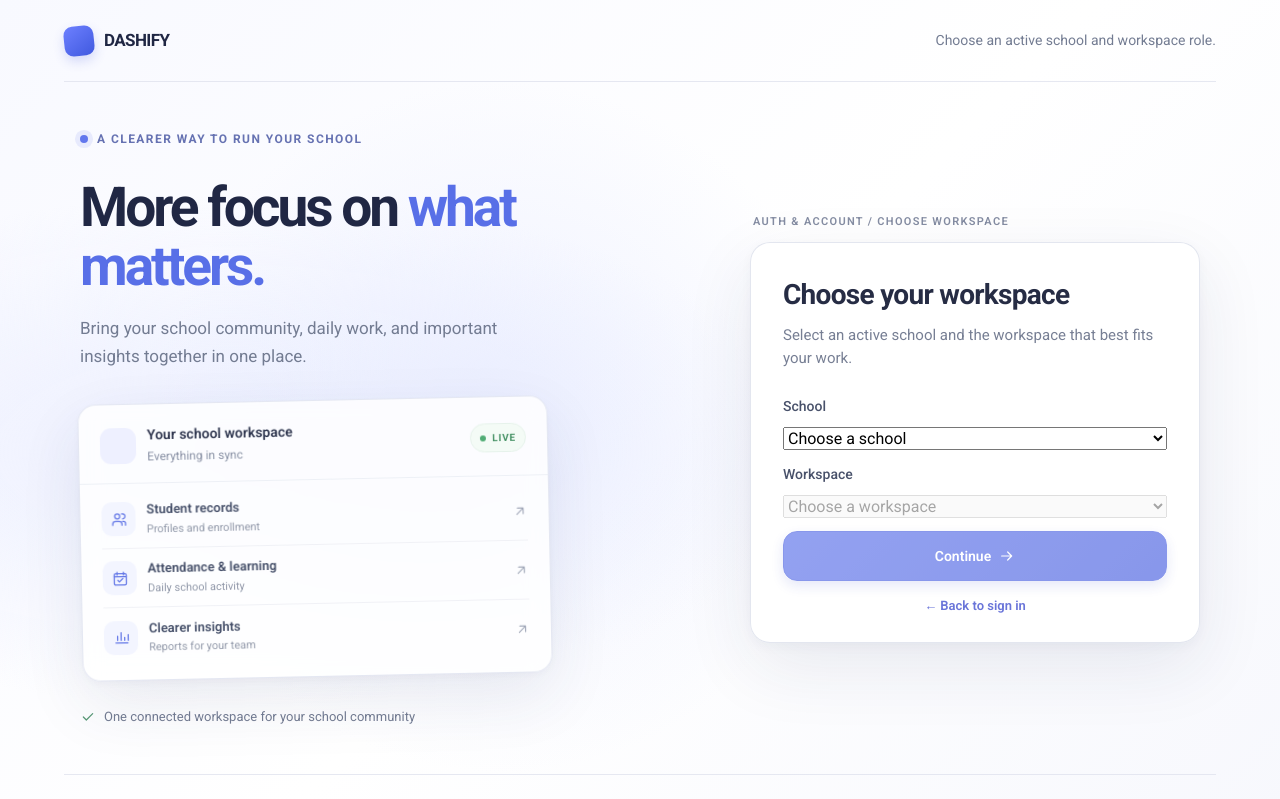
Test case: auth session and workspace UI › shows a school-selection failure without navigating
Check: the heading "Choose your workspace" is shown, box [783,278,1069,311]
Select "North School" in the dropdown labelled "School" at (975, 439), box [783,427,1167,450]
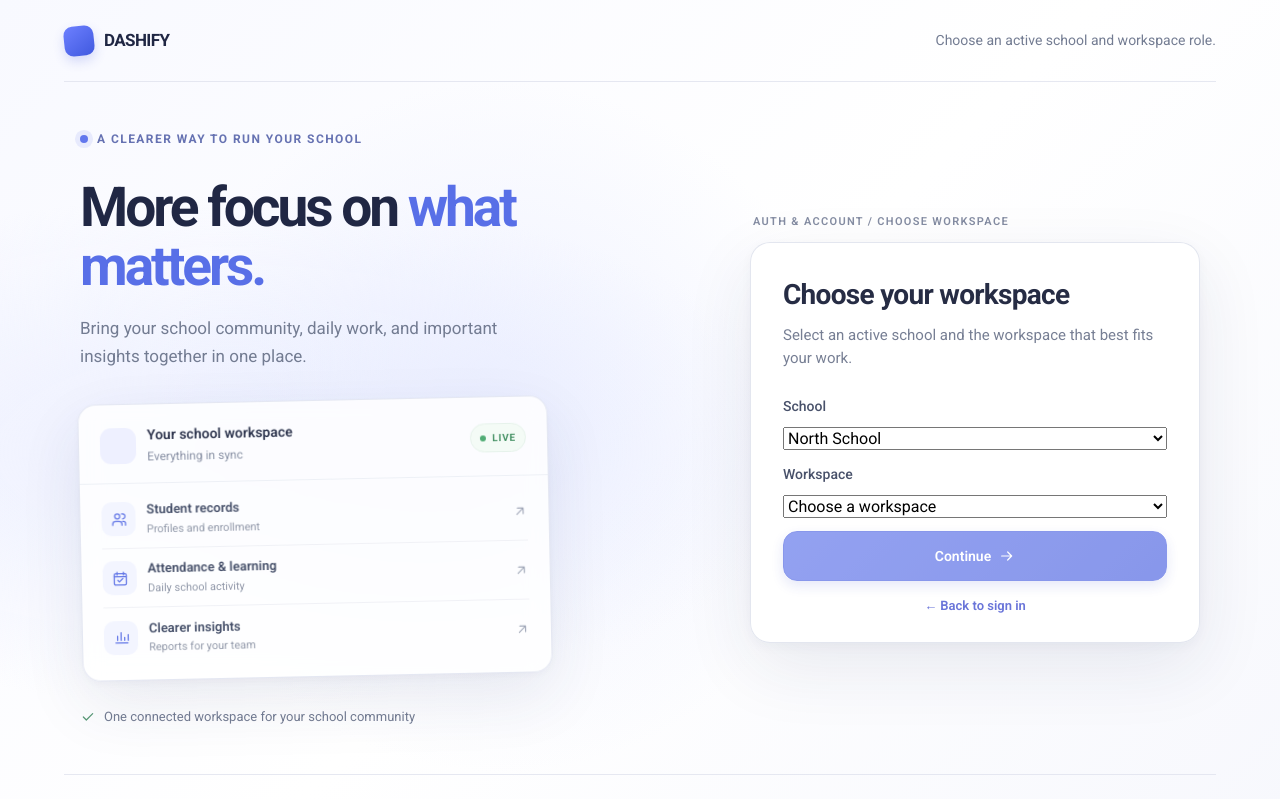
Select "school admin" in the dropdown labelled "Workspace" at (975, 507), box [783,495,1167,518]
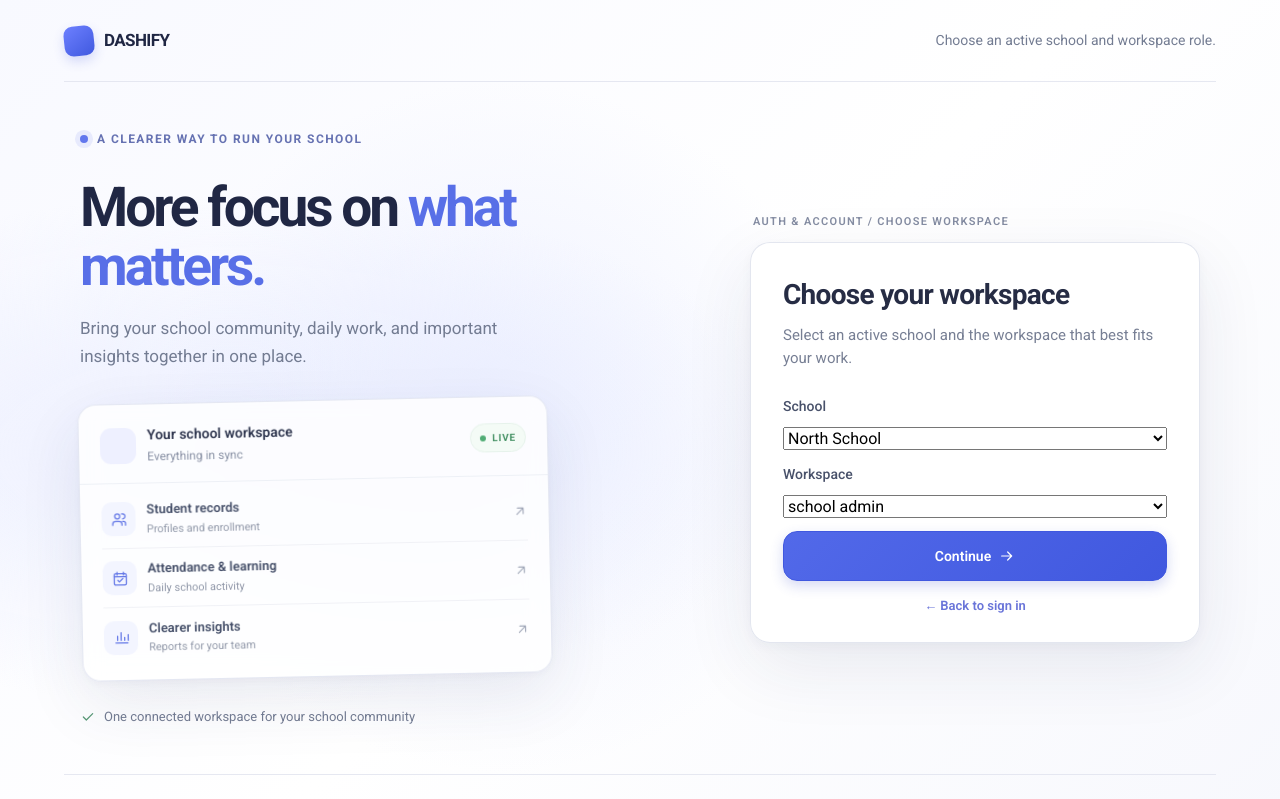
Click the button "Continue" at (975, 556), box [783,531,1167,581]
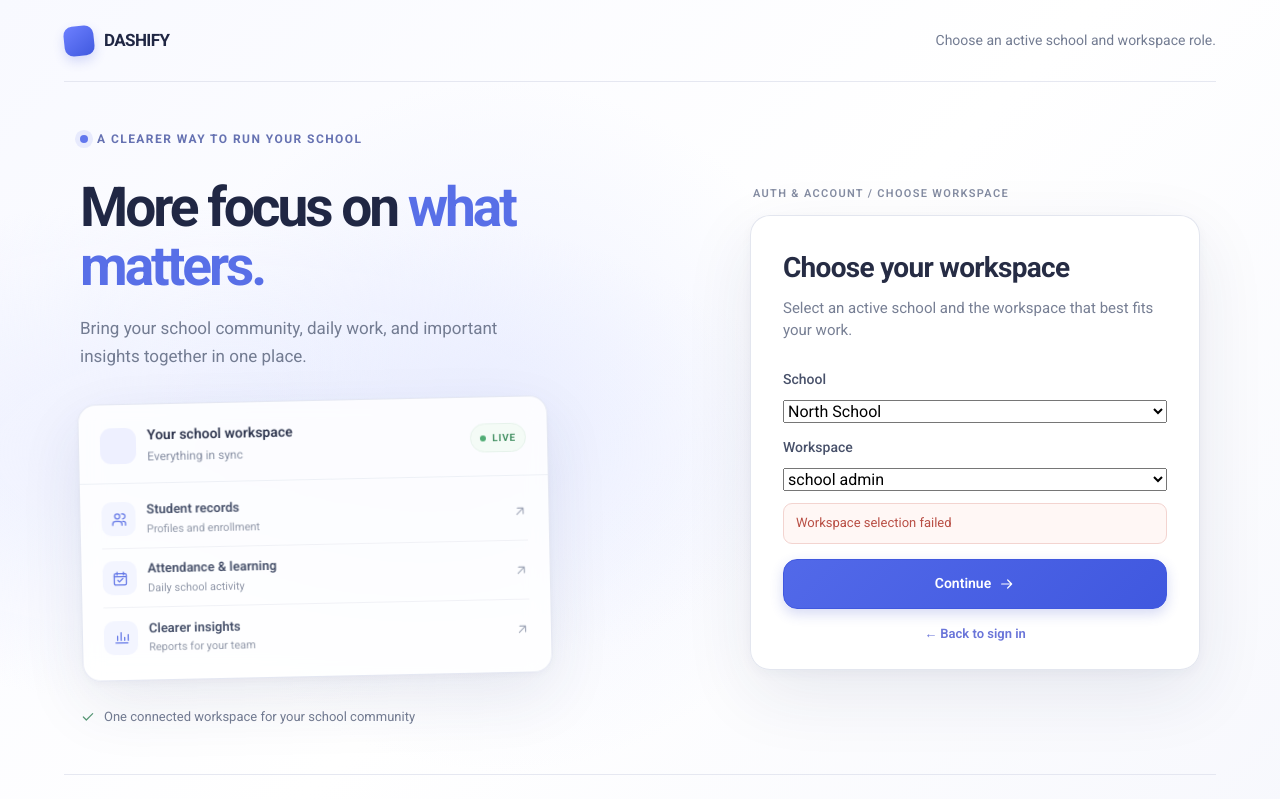
Check: the message reads "Workspace selection failed", box [796,515,952,530]
